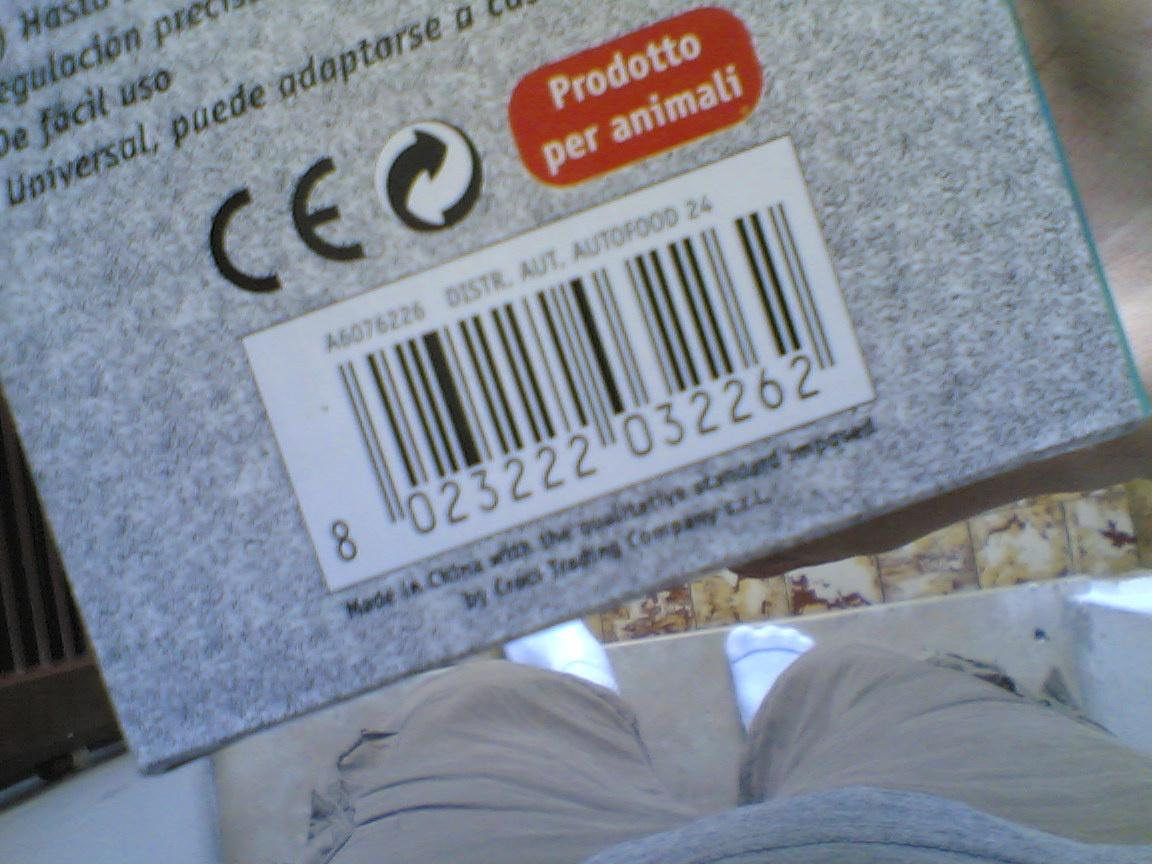Barcode: (238, 135, 883, 590)
